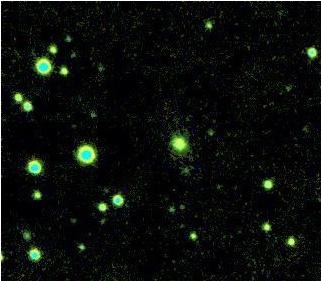star: (293, 114, 321, 144)
